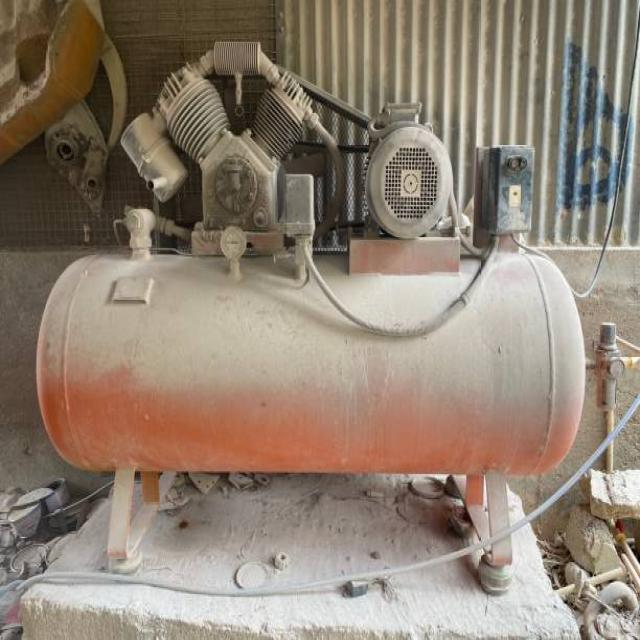compressor: (34, 38, 586, 596)
corrosion detected: (118, 38, 344, 266), (361, 100, 455, 242), (472, 141, 536, 240)
